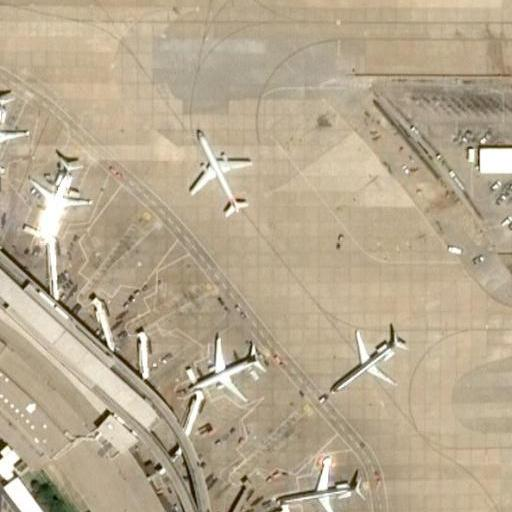Aircraft: (186, 125, 255, 227), (27, 152, 100, 248), (276, 449, 377, 512), (331, 320, 408, 395), (0, 86, 22, 178)
